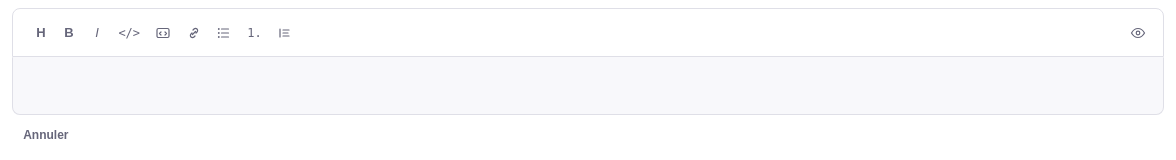
Test: MarkdownEditor — aperçu › aperçu d’un contenu vide (espaces) : message dédié
Click the button named "Aperçu".
click(1138, 32)  # box [1122, 18, 1153, 46]
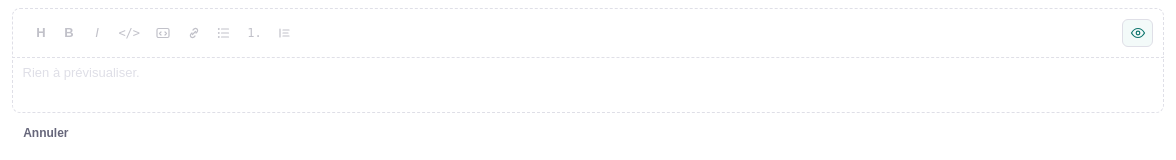
Result: the text "Rien à prévisualiser." is shown at [23, 65, 140, 80]
